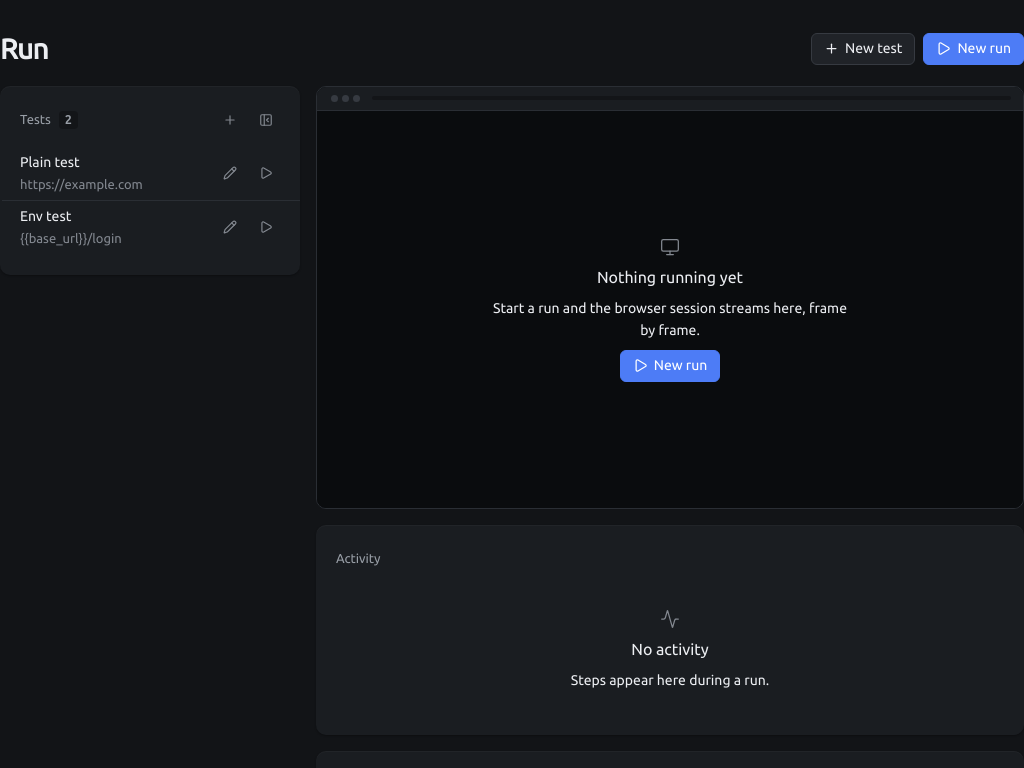
RunView activity leads the run (US-076) › offers the report and the run page, and no recording toggle
Click the button named "Run \"Plain test\"" at (266, 173), box [252,159,280,187]
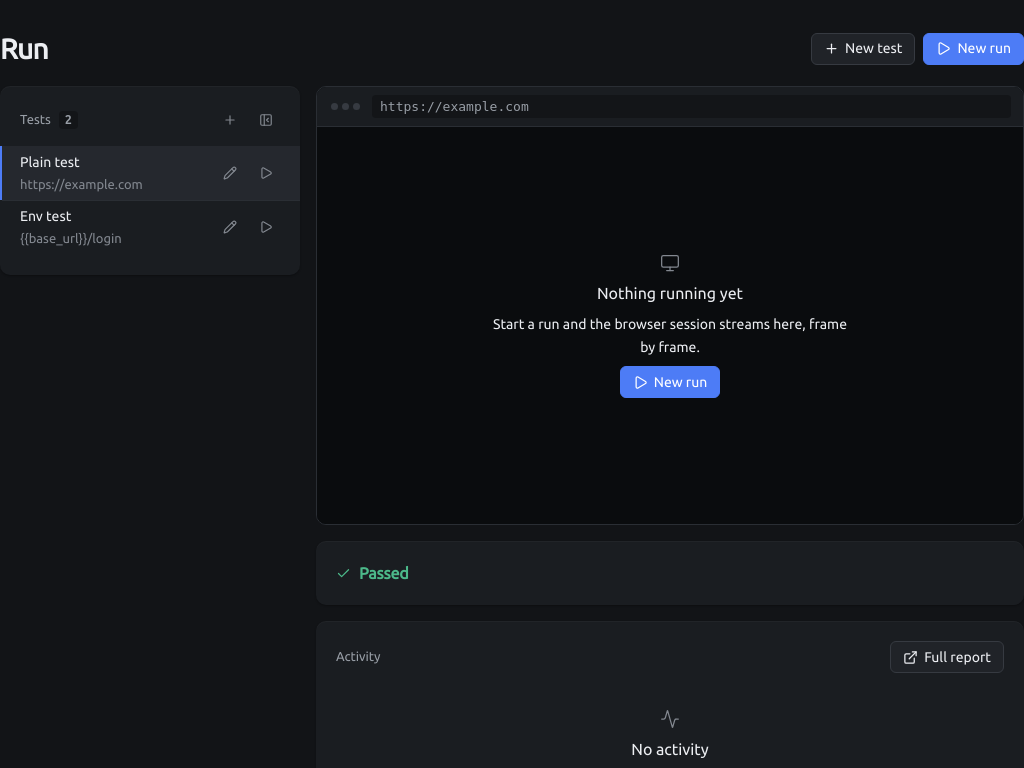
Result: the link "Full report" is shown at [890,641,1004,673]
